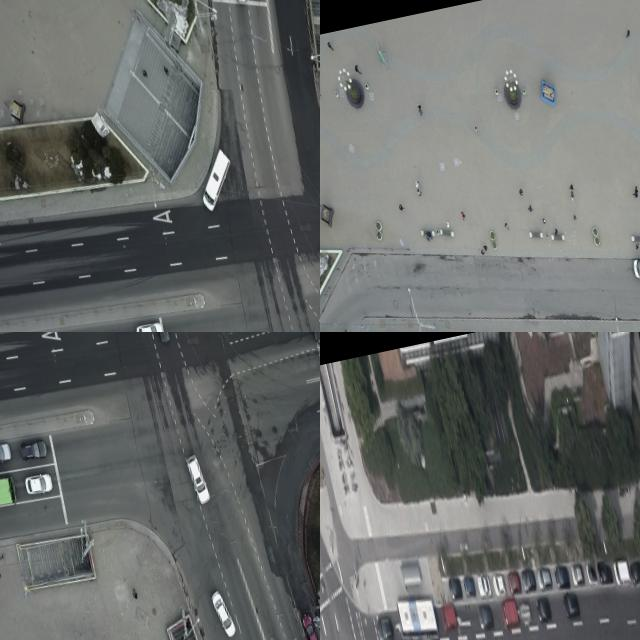UAI: (210, 587, 238, 640), (185, 452, 212, 506), (23, 469, 55, 498), (18, 435, 49, 462), (499, 598, 520, 630), (299, 610, 320, 640), (438, 602, 458, 633), (374, 612, 393, 640), (562, 591, 581, 619), (612, 558, 631, 586), (476, 602, 494, 631), (534, 596, 552, 624), (133, 317, 166, 332), (552, 563, 570, 589), (596, 560, 613, 585), (535, 565, 552, 590), (517, 599, 532, 627), (520, 566, 536, 592), (476, 573, 492, 598), (446, 577, 462, 600), (506, 570, 521, 594), (491, 572, 506, 596), (569, 561, 584, 584), (0, 439, 12, 466), (462, 574, 476, 597), (628, 559, 640, 583), (585, 561, 597, 583), (150, 332, 172, 343), (635, 332, 640, 370)
car: (394, 592, 439, 640)
harvester: (192, 145, 242, 216), (628, 249, 640, 287)
